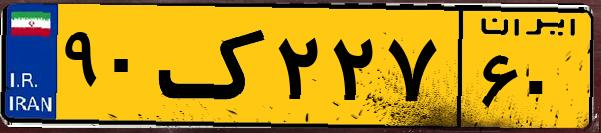0: (525, 38, 570, 115), (110, 28, 158, 98)
2: (270, 28, 330, 110), (330, 28, 385, 110)
6: (475, 38, 525, 113)
7: (385, 28, 445, 110)
9: (57, 26, 110, 100)
ک: (158, 12, 270, 120)
